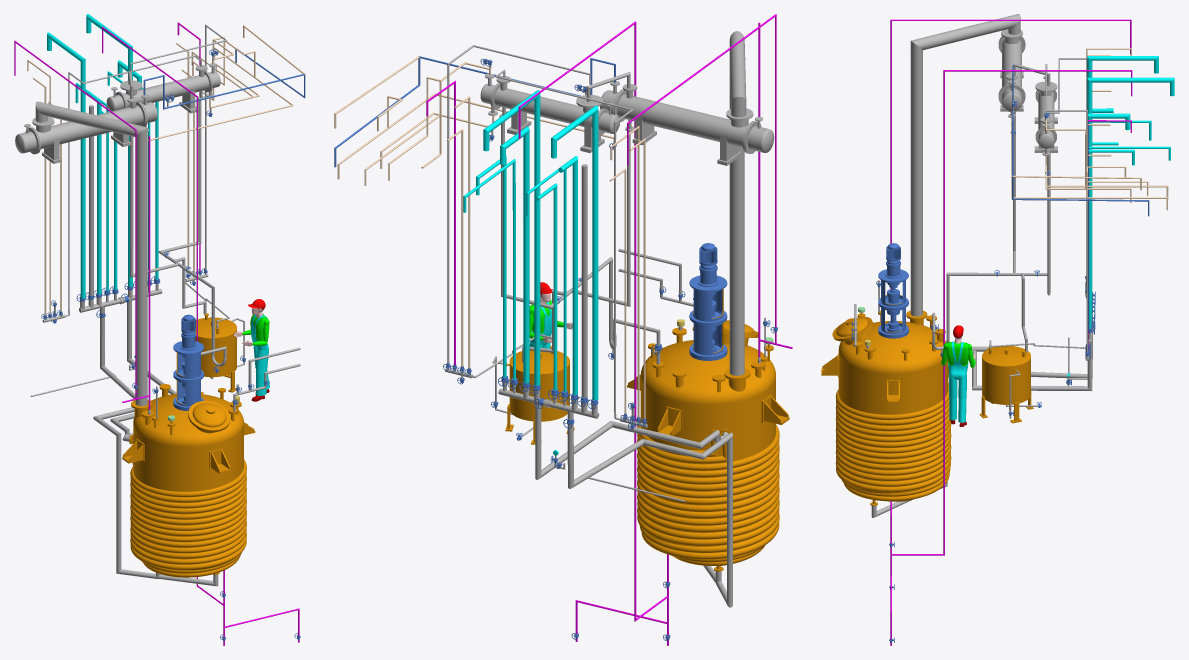
3 renders of one model, left to right at view 1: azimuth 30°, elevation 25°; view 2: azimuth 150°, elevation 25°; view 3: azimuth 270°, elevation 25°, orthographic. The views are drawn at different scales.
Parts seen in each view (by area): view 1: Part1-2, Part33-1, p&id-3, new, Part2-2, Part2 - Copy-2, 1kl-3, WORKER.stp-1, manifold-1; view 2: Part1-2, Part33-1, p&id-3, new, Part2-2, Part2 - Copy-2, 1kl-3, manifold-1, WORKER.stp-1; view 3: Part1-2, Part33-1, p&id-3, new, 1kl-3, WORKER.stp-1, Part2-2, Part2 - Copy-2.
Part boxes in pixels (bbox=[...]): Part1-2: bbox=[122, 314, 255, 577]; Part33-1: bbox=[35, 14, 226, 586]; p&id-3: bbox=[27, 24, 305, 367]; new: bbox=[14, 22, 300, 645]; Part2-2: bbox=[15, 94, 157, 163]; Part2 - Copy-2: bbox=[106, 63, 220, 113]; 1kl-3: bbox=[195, 313, 236, 393]; WORKER.stp-1: bbox=[233, 299, 269, 401]; manifold-1: bbox=[79, 283, 162, 349]; Part1-2: bbox=[627, 243, 789, 571]; Part33-1: bbox=[463, 31, 746, 607]; p&id-3: bbox=[334, 45, 645, 418]; new: bbox=[426, 14, 792, 645]; Part2-2: bbox=[600, 81, 774, 165]; Part2 - Copy-2: bbox=[480, 73, 619, 152]; 1kl-3: bbox=[505, 346, 574, 444]; manifold-1: bbox=[498, 382, 599, 465]; WORKER.stp-1: bbox=[529, 282, 572, 348]; Part1-2: bbox=[821, 243, 951, 505]; Part33-1: bbox=[871, 14, 1174, 517]; p&id-3: bbox=[989, 48, 1168, 418]; new: bbox=[854, 19, 1132, 645]; 1kl-3: bbox=[979, 346, 1033, 423]; WORKER.stp-1: bbox=[941, 325, 975, 426]; Part2-2: bbox=[998, 29, 1025, 117]; Part2 - Copy-2: bbox=[1034, 76, 1057, 155].
Size of the model in its own units: 5.44 by 9.84 by 5.76.
